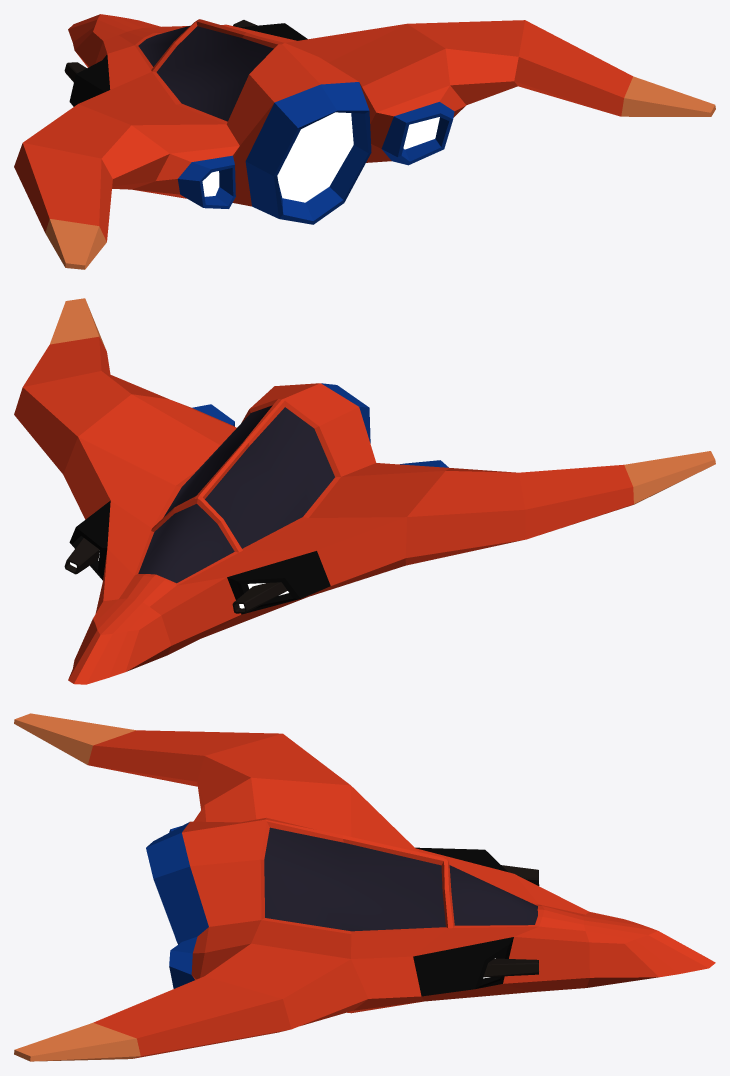
File: SpaceShip.glb
3 renders of one model, top to bottom at view 1: azimuth 30°, elevation 25°; view 2: azimuth 150°, elevation 25°; view 3: azimuth 270°, elevation 25°, orthographic. The views are drawn at different scales.
Parts seen in each view (by area): view 1: SpaceShip; view 2: SpaceShip; view 3: SpaceShip.
Part boxes in pixels (x1,y1,x2,y2): SpaceShip: (14,14,715,269); SpaceShip: (14,298,715,684); SpaceShip: (14,713,715,1061).
Bounding box in the file's own units: 26.98 × 6.47 × 23.3.
